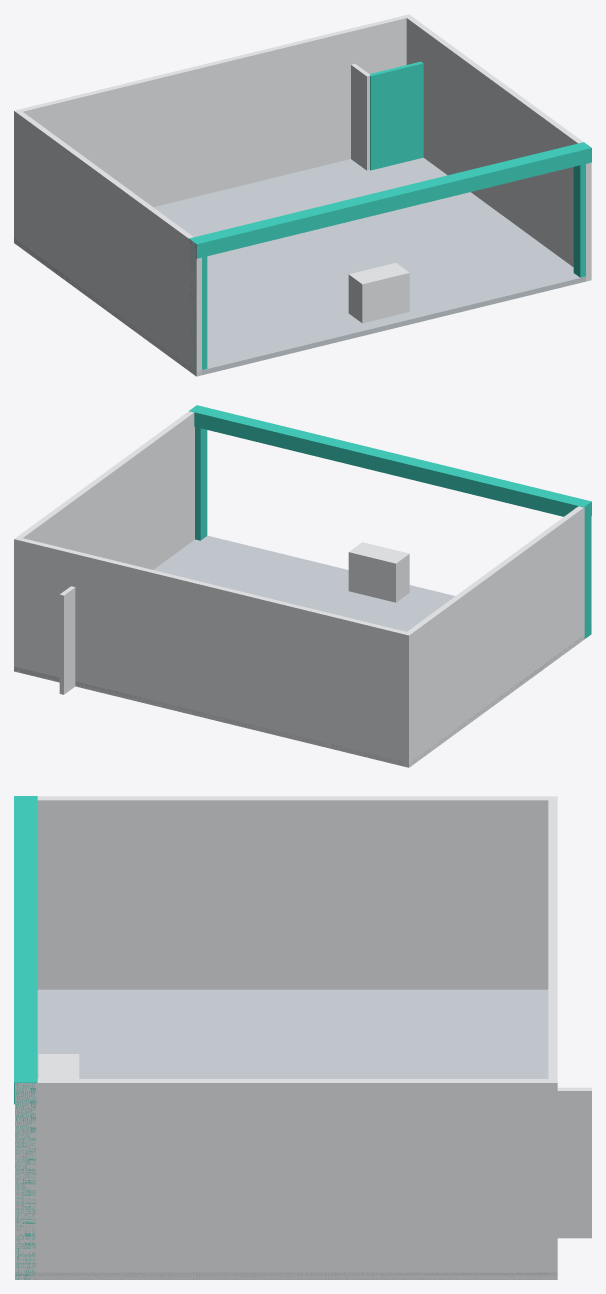
3 renders of one model, top to bottom at view 1: azimuth 30°, elevation 25°; view 2: azimuth 150°, elevation 25°; view 3: azimuth 270°, elevation 25°, orthographic. The views are drawn at different scales.
Parts seen in each view (by area): view 1: Exhibition Booth Concept; view 2: Exhibition Booth Concept; view 3: Exhibition Booth Concept.
Part boxes in pixels (x1,y1,x2,y2): Exhibition Booth Concept: [14, 14, 591, 376]; Exhibition Booth Concept: [14, 405, 591, 767]; Exhibition Booth Concept: [14, 796, 591, 1279].
Size of the model in its own units: 10 by 3.2 by 8.52.
